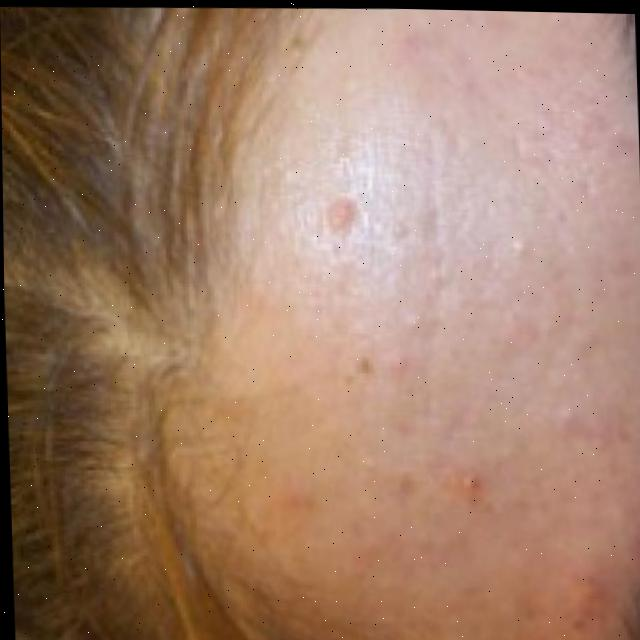Acne: (318, 99, 640, 640)
